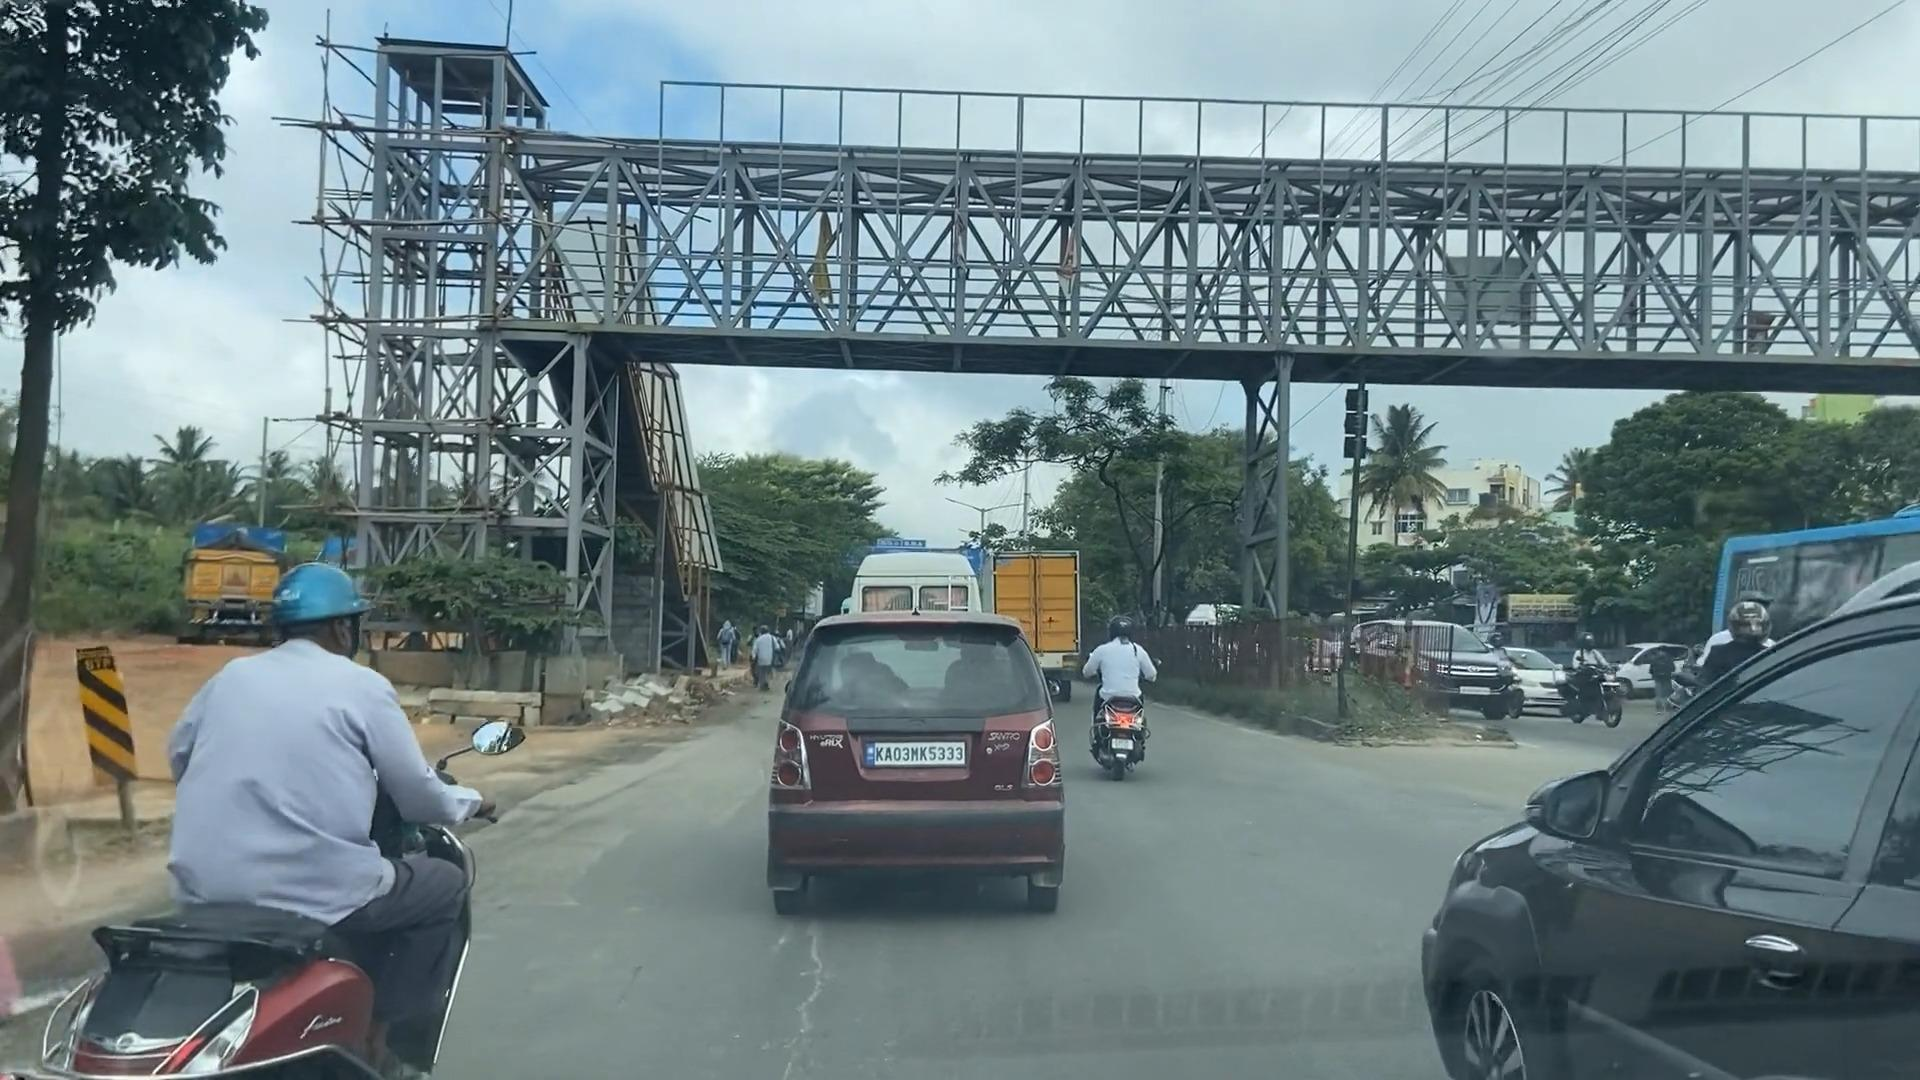LMV: (774, 630, 1065, 907), (1092, 616, 1146, 774)
RoadDamages: (529, 716, 692, 844), (766, 924, 849, 1080)
